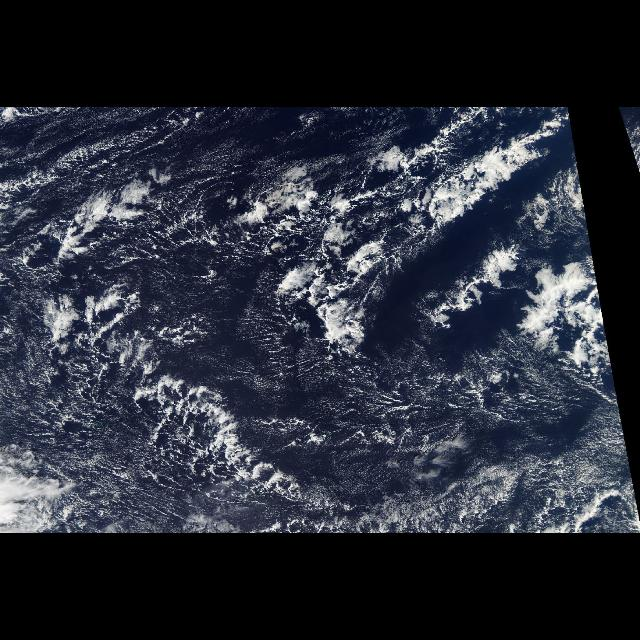Fish: (51, 290, 311, 492)
Gravel: (16, 141, 444, 524)
Sugar: (7, 253, 626, 532), (7, 116, 419, 248)
